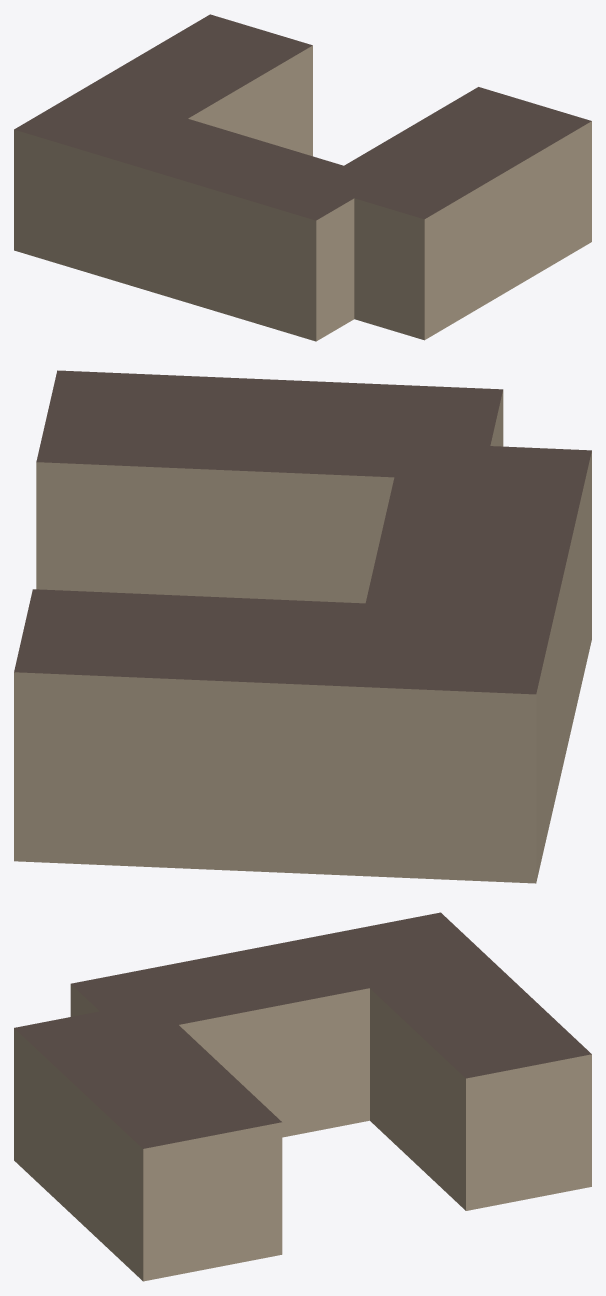
3 views of the same model, one above another, from view 1: azimuth 30°, elevation 25°; view 2: azimuth 150°, elevation 25°; view 3: azimuth 270°, elevation 25° (orthographic). The views are drawn at different scales.
Parts seen in each view (by area): view 1: HP-w378107190; view 2: HP-w378107190; view 3: HP-w378107190.
Part boxes in pixels (box(x1,y1,x2,y2)): HP-w378107190: box(14, 14, 591, 341); HP-w378107190: box(14, 370, 591, 883); HP-w378107190: box(14, 912, 591, 1281).
Bounding box in the file's own units: 34.44 × 9 × 35.57.
